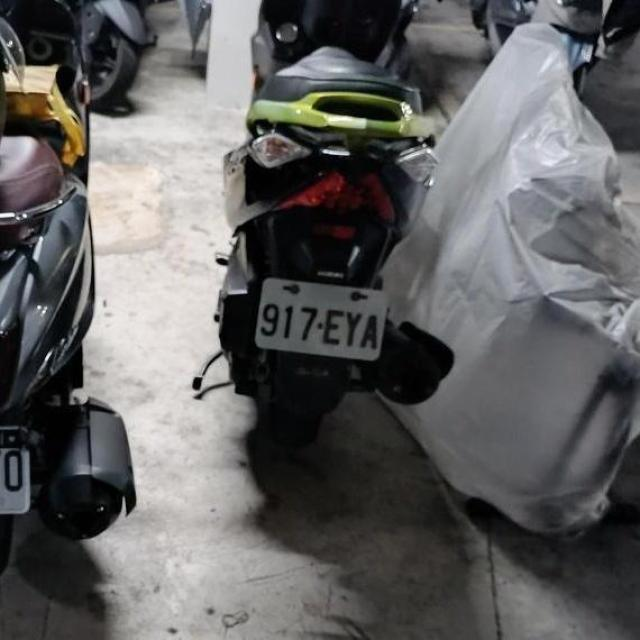W: (252, 271, 391, 365), (0, 416, 37, 526)
